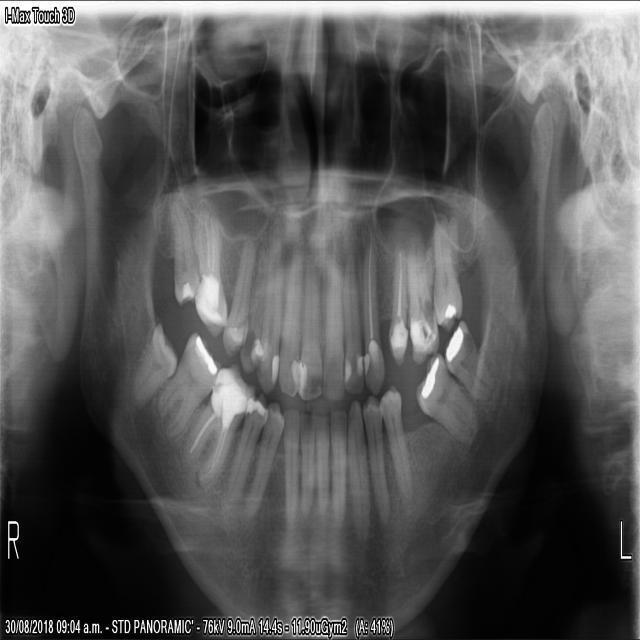LCD: (346, 397, 372, 546)
LCU: (359, 226, 383, 395)
LID: (328, 403, 347, 528), (312, 414, 329, 517)
LIU: (321, 244, 343, 402), (343, 245, 364, 395)
LMD: (412, 346, 480, 447), (443, 316, 496, 400)
LMU: (432, 218, 465, 328)
LPMD: (376, 377, 412, 506), (361, 396, 390, 532)
LPMU: (408, 233, 439, 367), (385, 231, 408, 369)
RCD: (241, 402, 283, 514)
RCU: (255, 238, 283, 395)
RID: (297, 410, 316, 517), (282, 406, 298, 524)
RIU: (297, 258, 323, 402), (278, 247, 300, 400)
RMD: (142, 320, 217, 450), (124, 316, 179, 415)
RMU: (189, 210, 226, 336), (166, 193, 200, 302), (298, 405, 313, 518)
RPMD: (179, 360, 253, 495)
RPMU: (220, 238, 257, 357), (239, 243, 266, 374)
